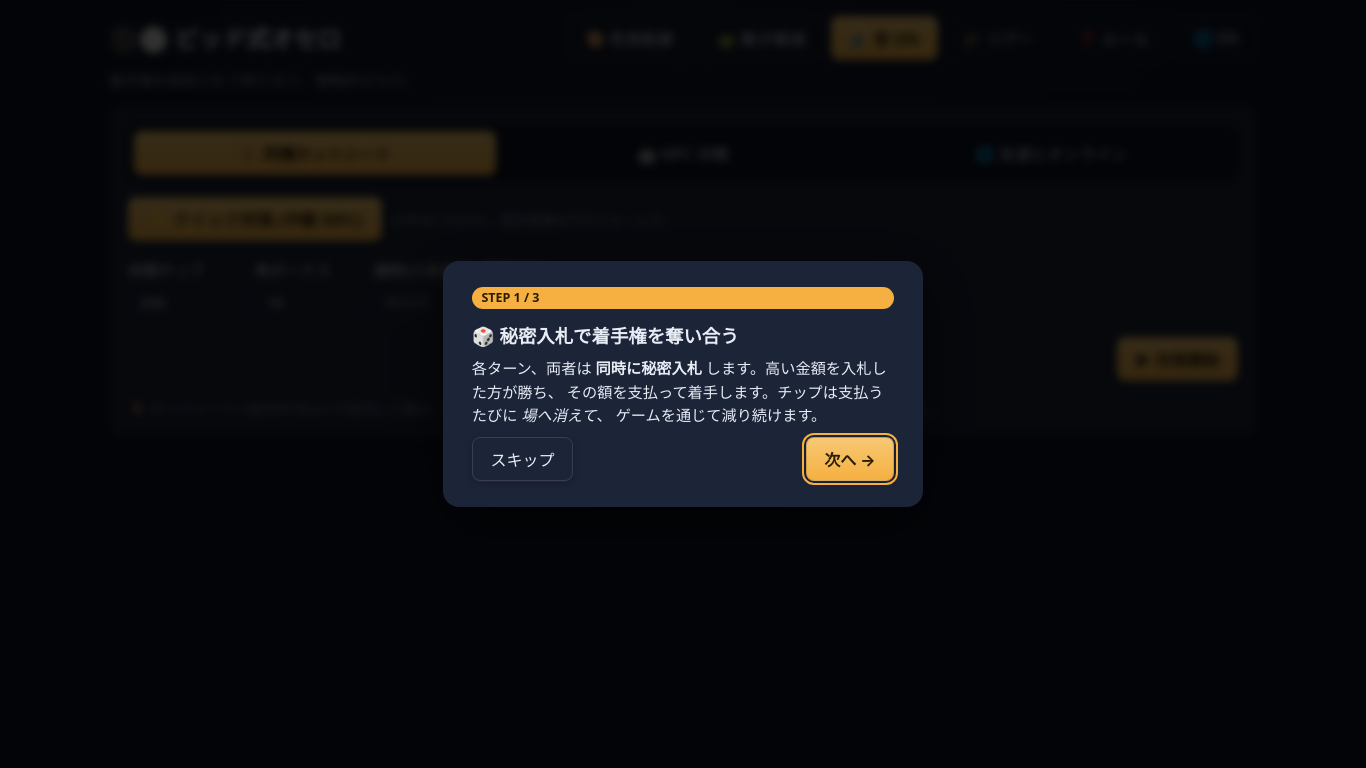
App: header toggles › tour button reopens the tour overlay
The image size is (1366, 768).
Click the button "スキップ": (522, 459) [472,437,573,481]
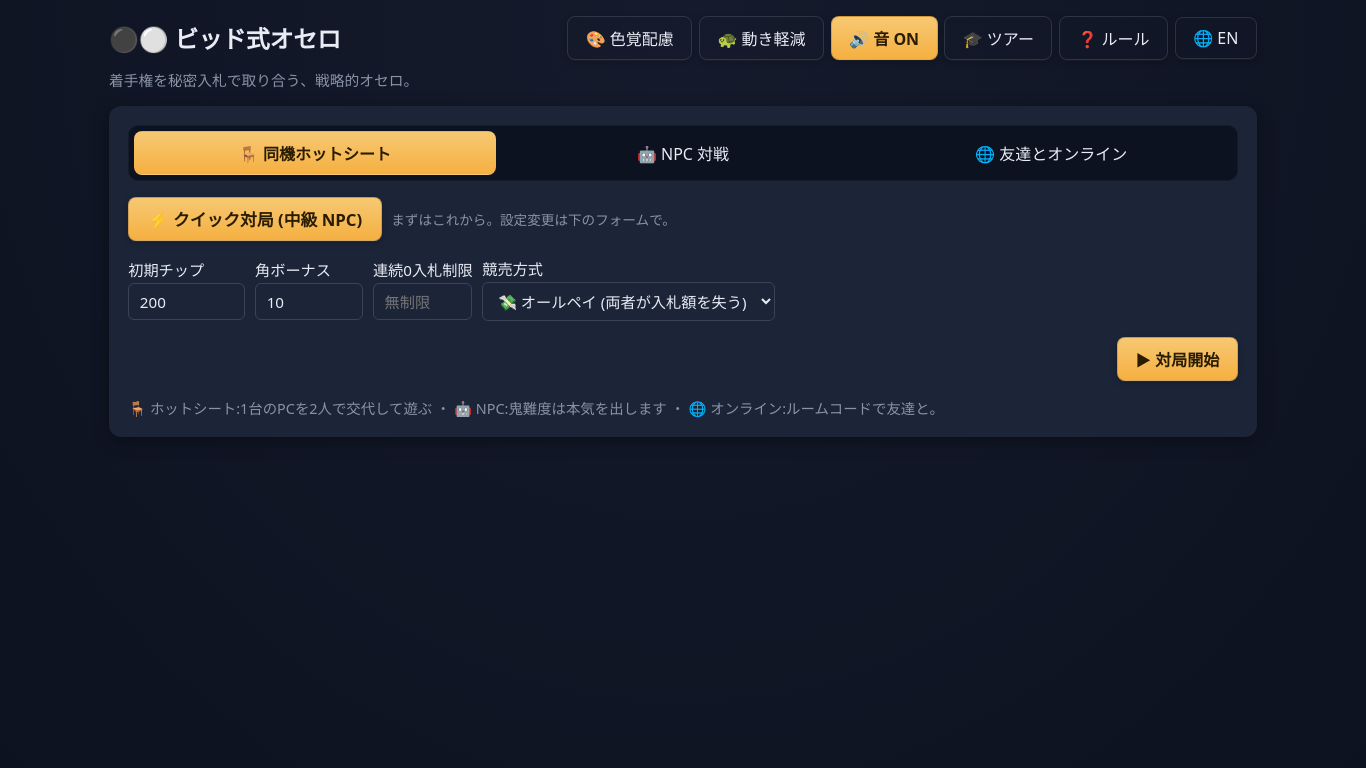
Click the button "🎓 ツアー": (998, 38) [944,16,1052,60]
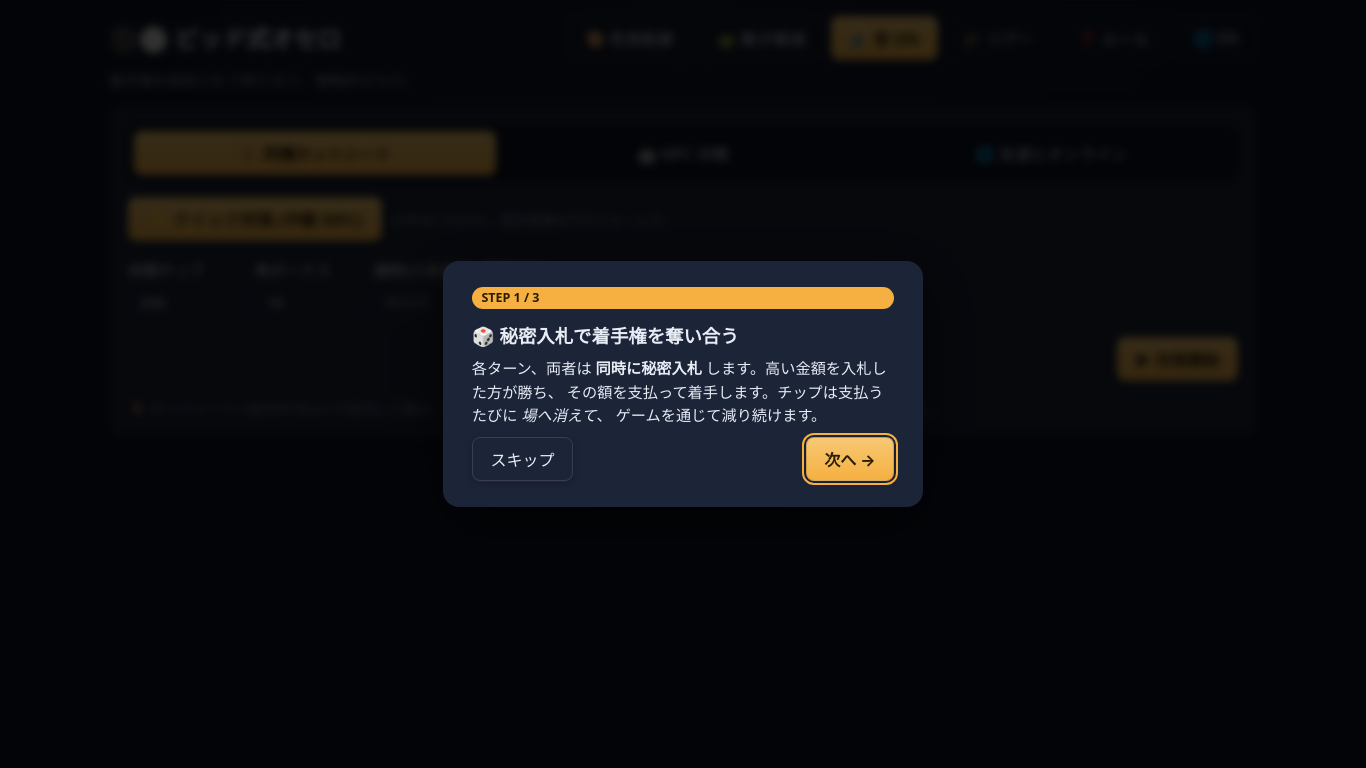
Expected: the text "STEP 1 / 3" is shown, [472,287,894,309]
